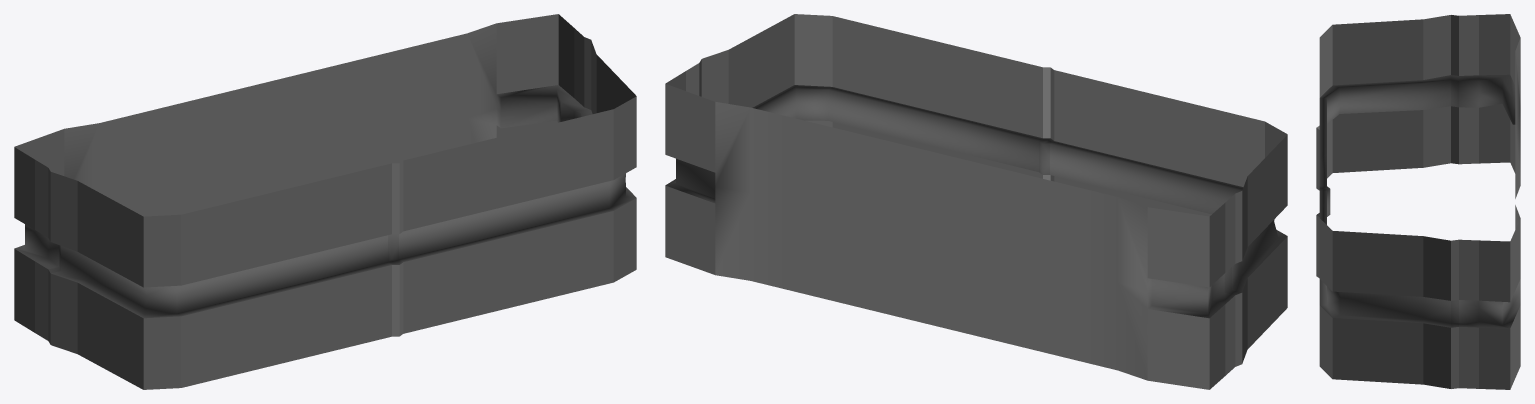
The picture shows the model from 3 angles, left to right: view 1: azimuth 30°, elevation 25°; view 2: azimuth 150°, elevation 25°; view 3: azimuth 270°, elevation 25°; orthographic projection. The views are drawn at different scales.
Visible parts, largest first — view 1: group_13; view 2: group_13; view 3: group_13.
Part boxes in pixels (bbox=[...]): group_13: bbox=[14, 14, 636, 389]; group_13: bbox=[665, 14, 1287, 389]; group_13: bbox=[1316, 14, 1520, 389].
Size of the model in its own units: 13454 by 4095 by 5100.
Materials: 1 (1 with a texture image).
